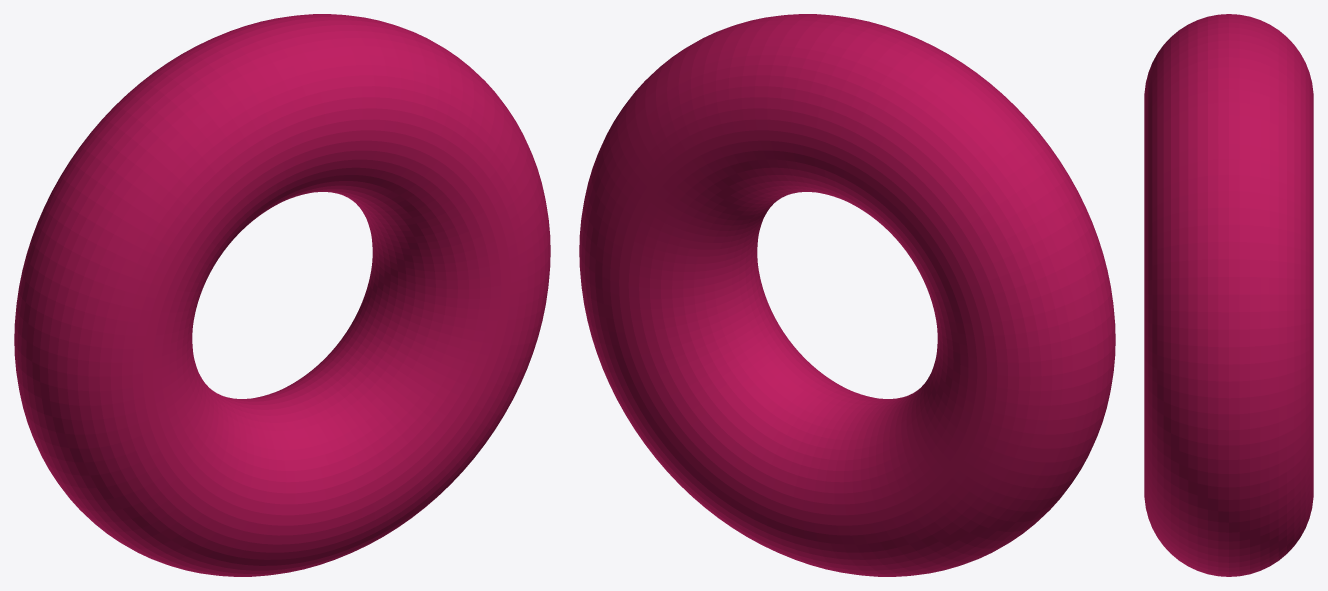
3 renders of one model, left to right at view 1: azimuth 30°, elevation 25°; view 2: azimuth 150°, elevation 25°; view 3: azimuth 270°, elevation 25°, orthographic. The views are drawn at different scales.
Parts seen in each view (by area): view 1: world; view 2: world; view 3: world.
Part boxes in pixels (x1,y1,x2,y2): world: (14,14,550,576); world: (579,14,1115,576); world: (1144,14,1313,576).
Size of the model in its own units: 31.47 by 31.47 by 9.45.
